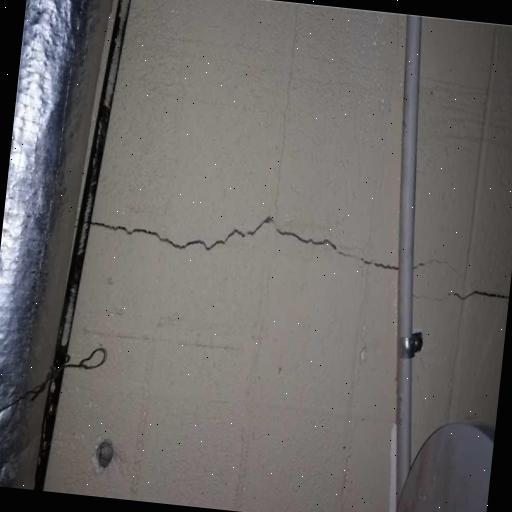spalling: (98, 211, 393, 281), (438, 282, 502, 325)
